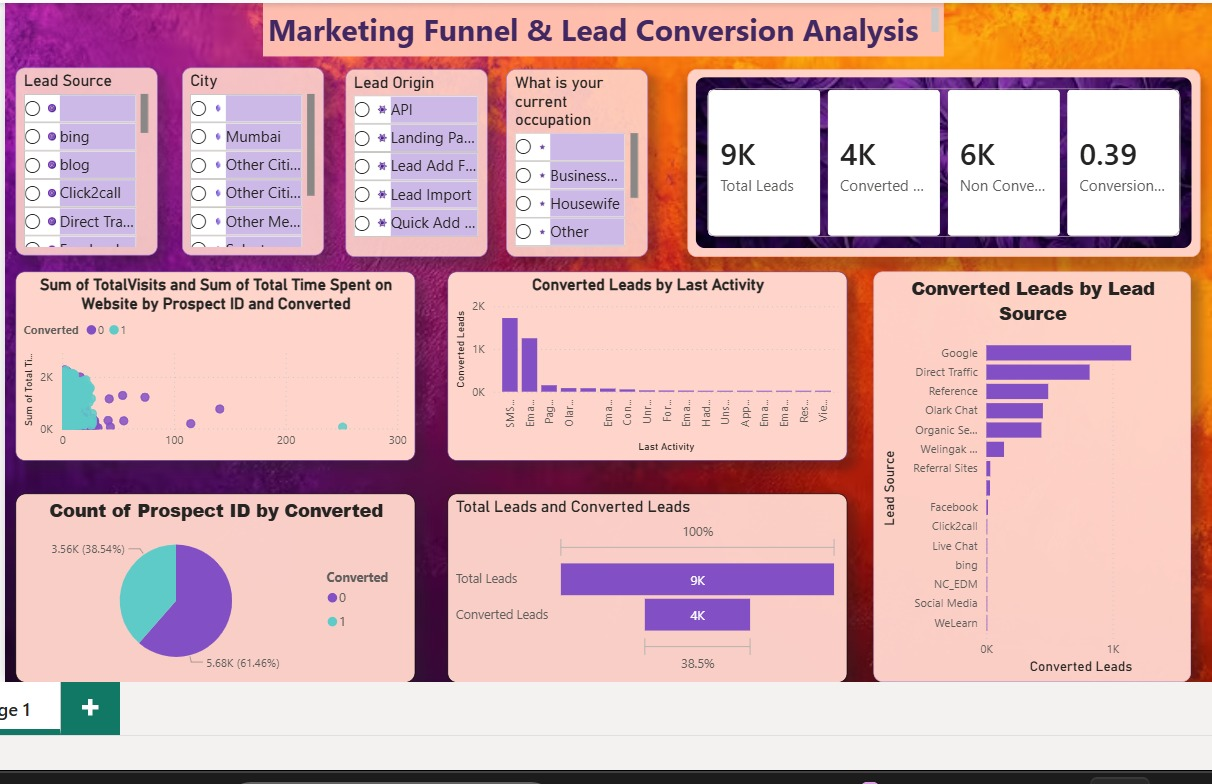

Layout of this report page (visuals, bound fields, positions):
{"tool":"powerbi","page":{"name":"Page 1","canvas":[1280,720],"ordinal":0},"visuals":[{"type":"cardVisual","fields":{"Data":["Lead Scoring.Total Leads","Lead Scoring.Converted Leads","Lead Scoring.Non Converted Leads","Lead Scoring.Conversion Rate"]},"box":[723.8,69.6,544.1,199.2],"z":0},{"type":"funnel","fields":{"Y":["Lead Scoring.Total Leads","Lead Scoring.Converted Leads"]},"box":[469.6,519.8,424.2,200.8],"z":1000},{"type":"barChart","fields":{"Y":["Lead Scoring.Converted Leads"],"Category":["Lead Scoring.Lead Source"]},"box":[921.3,285,336.8,435.6],"z":2000},{"type":"pieChart","fields":{"Category":["Lead Scoring.Converted"],"Y":["CountNonNull(Lead Scoring.Prospect ID)"]},"box":[11.3,519.8,424.2,200.8],"z":3000},{"type":"listSlicer","fields":{"Values":["Lead Scoring.Lead Source"]},"box":[11.3,68,150.6,199.2],"z":4000},{"type":"listSlicer","fields":{"Values":["Lead Scoring.Lead Origin"]},"box":[361.1,69.6,150.6,199.2],"z":5000},{"type":"listSlicer","fields":{"Values":["Lead Scoring.City"]},"box":[187.8,68,150.6,199.2],"z":6000},{"type":"listSlicer","fields":{"Values":["Lead Scoring.What is your current occupation"]},"box":[531.1,69.6,150.6,199.2],"z":7000},{"type":"textbox","box":[274,0,721.9,56.7],"z":8000},{"type":"scatterChart","fields":{"X":["Sum(Lead Scoring.TotalVisits)"],"Y":["Sum(Lead Scoring.Total Time Spent on Website)"],"Category":["Lead Scoring.Prospect ID"],"Series":["Lead Scoring.Converted"]},"box":[11.3,285,424.2,200.8],"z":9000},{"type":"columnChart","fields":{"Category":["Lead Scoring.Last Activity"],"Y":["Lead Scoring.Converted Leads"]},"box":[469.6,285,424.2,200.8],"z":10000}]}

Visuals, with their boxes in screenshot pixels (x1, y1, x2, y2):
cardVisual - Lead Scoring.Total Leads x Lead Scoring.Converted Leads: BBox(682, 68, 1190, 254)
funnel - Lead Scoring.Total Leads x Lead Scoring.Converted Leads: BBox(445, 489, 841, 676)
barChart - Lead Scoring.Converted Leads x Lead Scoring.Lead Source: BBox(867, 269, 1181, 676)
pieChart - Lead Scoring.Converted x CountNonNull(Lead Scoring.Prospect ID): BBox(17, 489, 413, 676)
listSlicer - Lead Scoring.Lead Source: BBox(17, 67, 157, 253)
listSlicer - Lead Scoring.Lead Origin: BBox(344, 68, 484, 254)
listSlicer - Lead Scoring.City: BBox(182, 67, 322, 253)
listSlicer - Lead Scoring.What is your current occupation: BBox(502, 68, 643, 254)
textbox: BBox(262, 3, 936, 56)
scatterChart - Sum(Lead Scoring.TotalVisits) x Sum(Lead Scoring.Total Time Spent on Website): BBox(17, 269, 413, 457)
columnChart - Lead Scoring.Last Activity x Lead Scoring.Converted Leads: BBox(445, 269, 841, 457)
